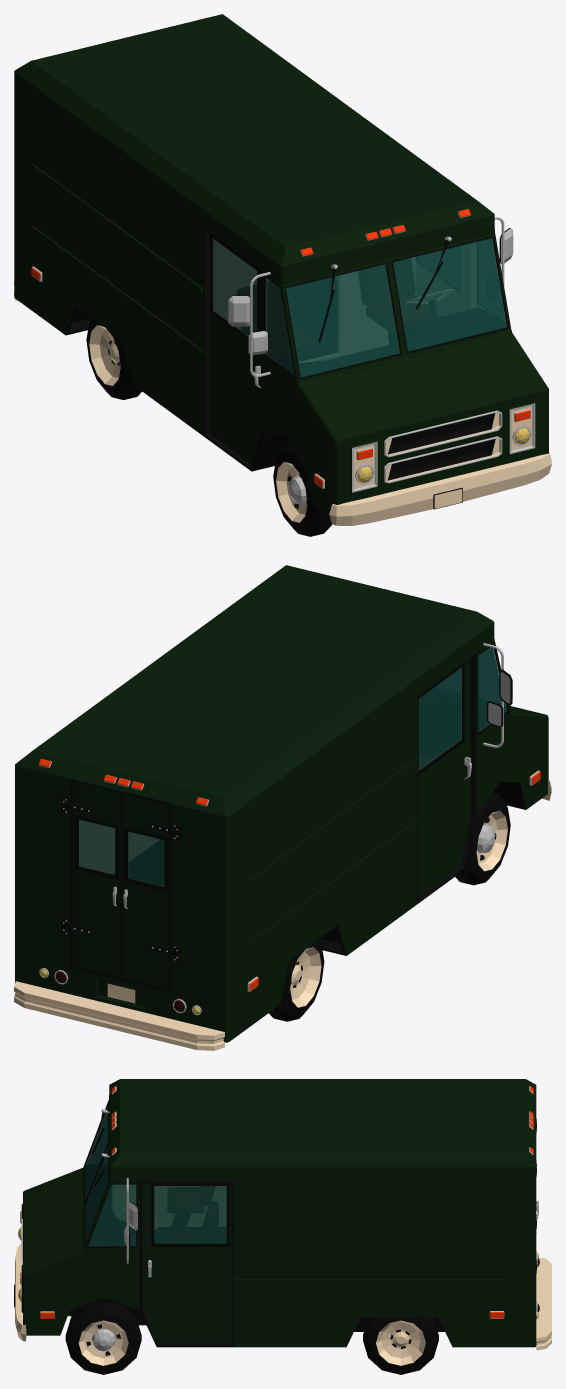
File: TransporterVan_03.FBX
3 views of the same model, one above another, from view 1: azimuth 30°, elevation 25°; view 2: azimuth 150°, elevation 25°; view 3: azimuth 270°, elevation 25° (orthographic). The views are drawn at different scales.
Parts seen in each view (by area): view 1: TransporterVan_03, interior, bumper_f, wheel_f_r, wheel_b_r, mirror_r, lights; view 2: TransporterVan_03, interior, bumper_b, wheel_f_r, wheel_b_r, mirror_r; view 3: TransporterVan_03, interior, wheel_f_l, wheel_b_l, bumper_b, bumper_f, mirror_l.
Part boxes in pixels (x1,y1,x2,y2): TransporterVan_03: (14,14,548,513); interior: (213,238,506,377); bumper_f: (329,451,551,525); wheel_f_r: (273,443,332,536); wheel_b_r: (86,317,141,399); mirror_r: (228,272,270,377); lights: (32,209,531,488); TransporterVan_03: (15,565,548,1042); interior: (79,647,506,886); bumper_b: (14,981,224,1050); wheel_f_r: (455,792,510,885); wheel_b_r: (269,939,324,1021); mirror_r: (483,643,512,747); TransporterVan_03: (21,1079,538,1347); interior: (86,1108,226,1245); wheel_f_l: (65,1301,141,1374); wheel_b_l: (363,1317,438,1374); bumper_b: (536,1257,551,1350); bumper_f: (15,1243,26,1341); mirror_l: (124,1178,138,1263).
Bounding box in the file's own units: 31.34 × 29.42 × 64.52.
